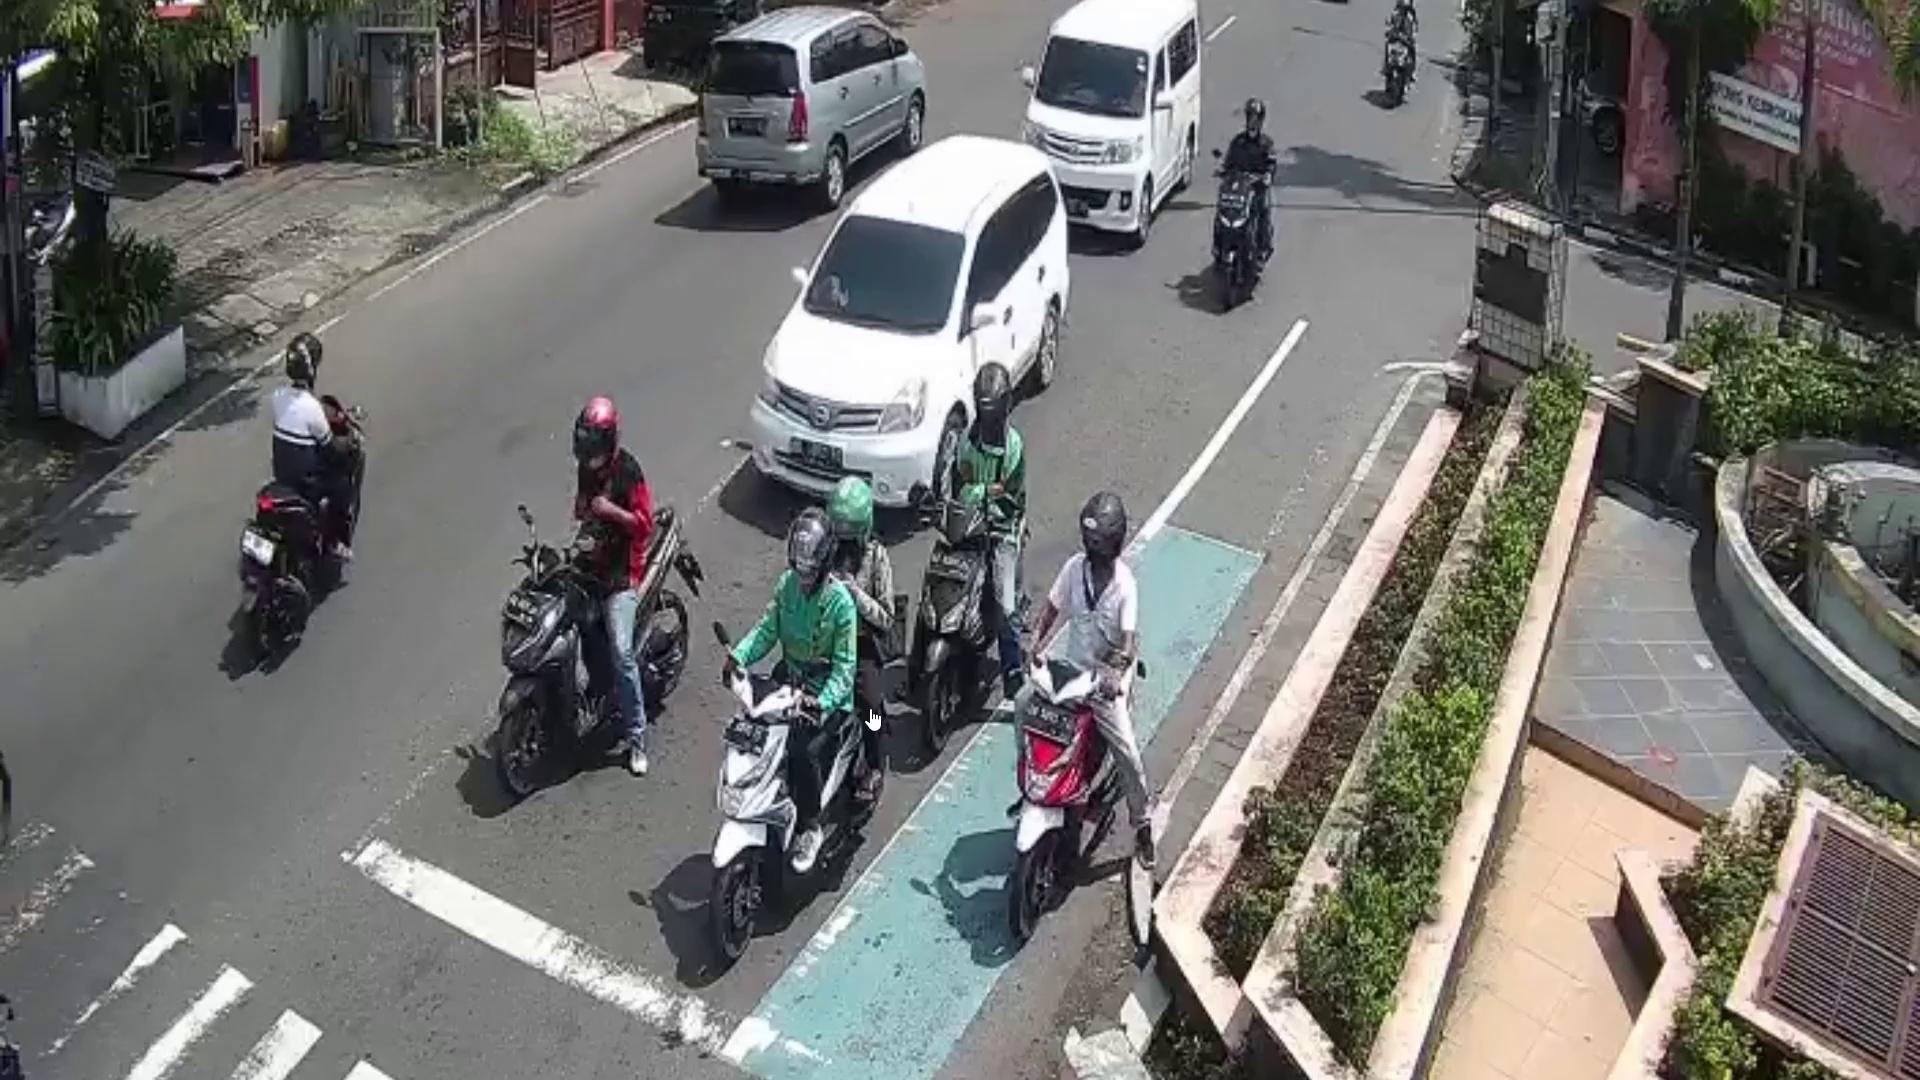car: (754, 133, 1068, 508), (1014, 0, 1204, 251), (695, 5, 926, 210)
motorbike: (489, 501, 702, 800), (711, 669, 870, 959), (243, 397, 365, 665), (1013, 653, 1116, 936), (914, 501, 998, 753), (1216, 169, 1257, 311)
